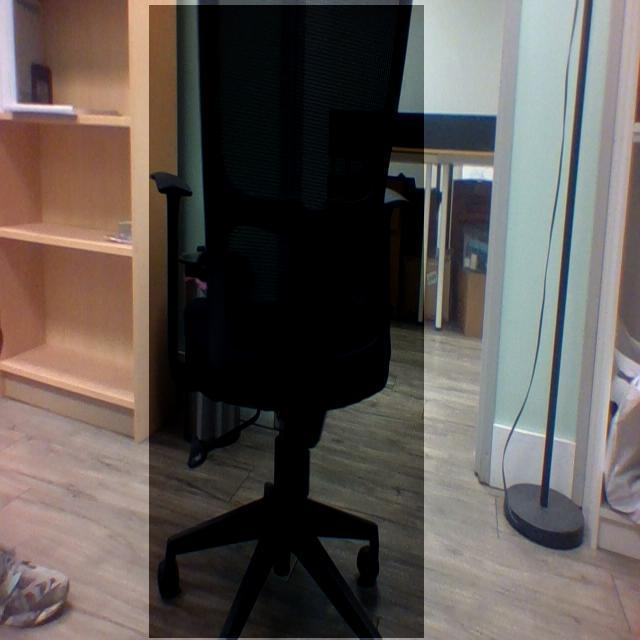chair: (149, 0, 408, 640)
